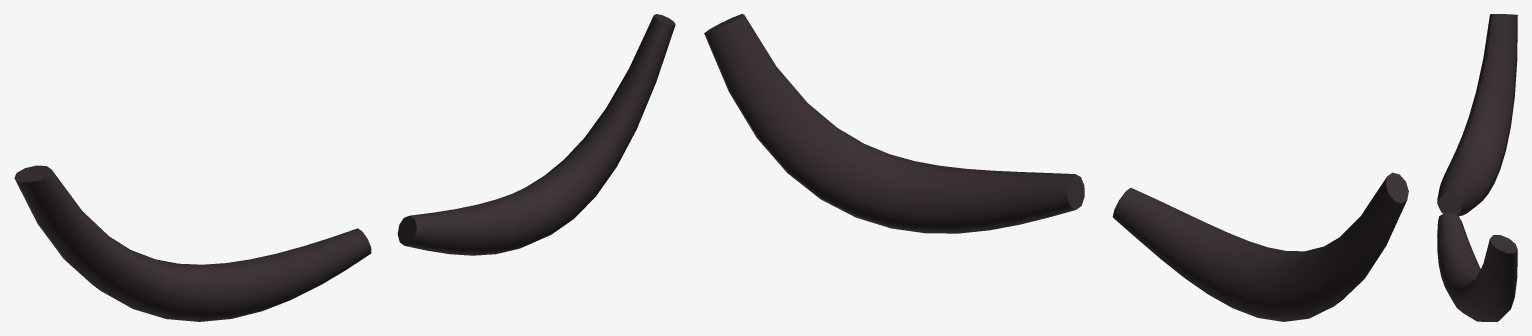
Rendered from facial_curled_moustache_default.gltf.
The picture shows the model from 3 angles, left to right: view 1: azimuth 30°, elevation 25°; view 2: azimuth 150°, elevation 25°; view 3: azimuth 270°, elevation 25°; orthographic projection. The views are drawn at different scales.
Parts seen in each view (by area): view 1: Curled Moustache; view 2: Curled Moustache; view 3: Curled Moustache.
Boxes of the visible parts, left/top/right/bottom form: Curled Moustache: left=14, top=14, right=675, bottom=321; Curled Moustache: left=704, top=14, right=1408, bottom=321; Curled Moustache: left=1437, top=14, right=1517, bottom=321.
Bounding box in the file's own units: 0.2675 × 0.0679 × 0.0383.
Materials: 1 (1 with a texture image).
